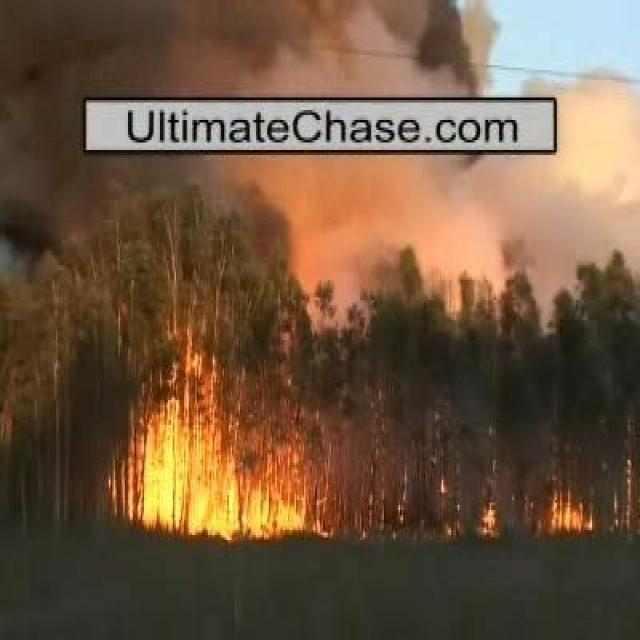fire: (142, 416, 239, 530)
smoke: (258, 153, 592, 245), (274, 4, 492, 88)
